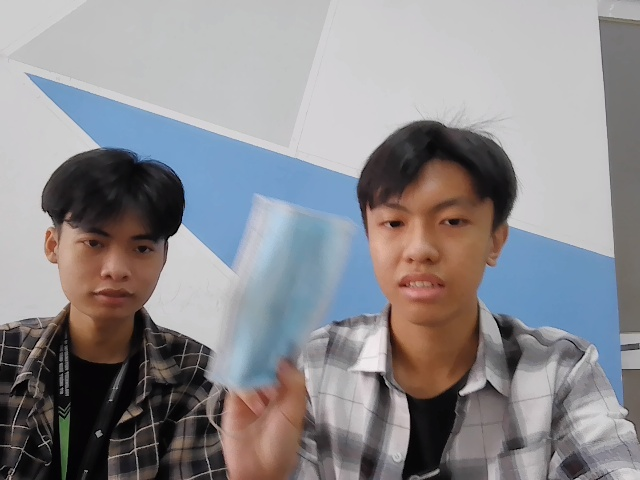human: (350, 121, 521, 321), (39, 153, 192, 316)
mask: (210, 187, 351, 396)
